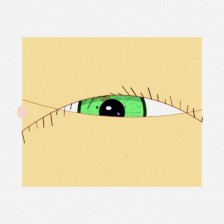hemorrhage_spot: (32, 88, 128, 165)
